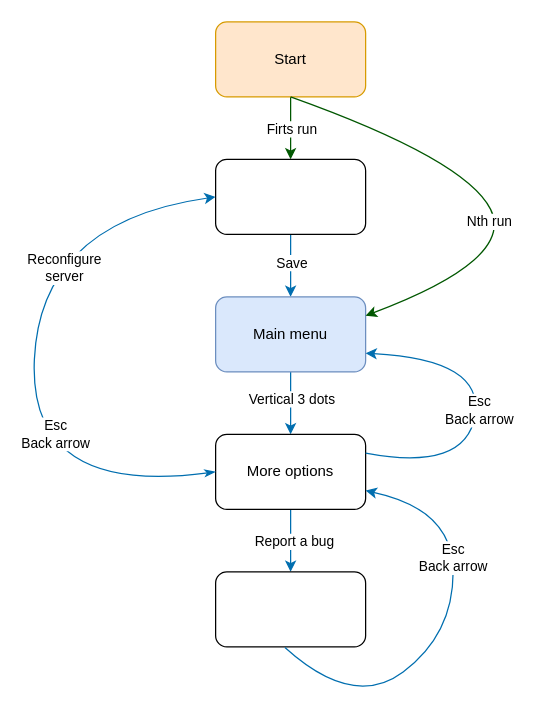
This 535x709 diagram has some shape labels left out. The centre of each missing label's shape, as x and y in pixels:
Bug report: point 290,609
Server Configuration: point 290,196
